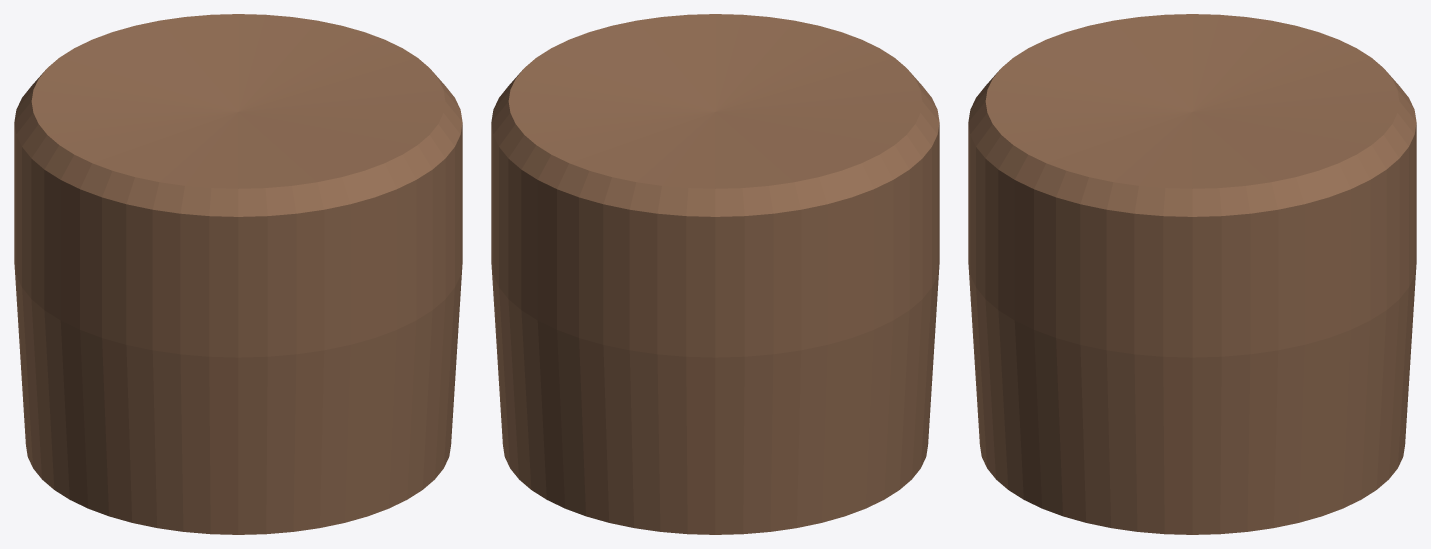
File: tierra.glb
3 views of the same model, side by side, from view 1: azimuth 30°, elevation 25°; view 2: azimuth 150°, elevation 25°; view 3: azimuth 270°, elevation 25° (orthographic).
Bounding box in the file's own units: 0.078 × 0.066 × 0.078.
